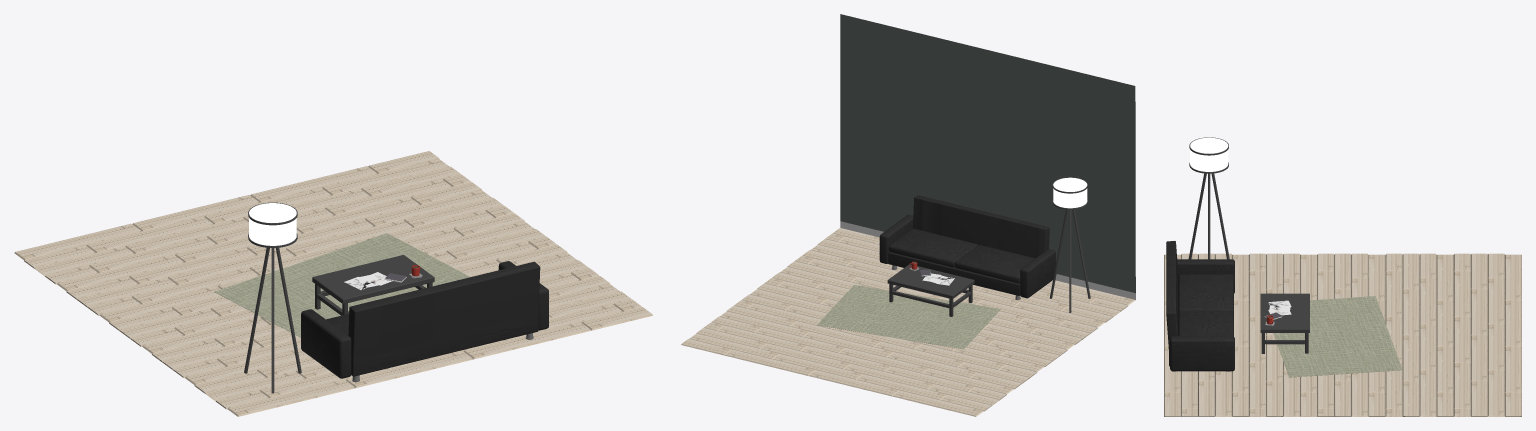
The model's file is officeCall.gltf.
3 views of the same model, side by side, from view 1: azimuth 30°, elevation 25°; view 2: azimuth 150°, elevation 25°; view 3: azimuth 270°, elevation 25° (orthographic). The views are drawn at different scales.
Visible parts, largest first — view 1: Object_28, Object_110.005, Object_3, Object_82, Object_110.002, Object_30, Object_110.003; view 2: Object_51.001, Object_28, Object_3, Object_110.005, Object_82, Object_110.001, Object_110, Object_110.002, Object_30, Object_50.001, Object_110.003; view 3: Object_28, Object_3, Object_110.003, Object_110, Object_82, Object_110.001, Object_110.005, Object_30, Object_110.002.
Part boxes in pixels (box(x1,y1,x2,y2)): Object_28: box(14, 151, 652, 416); Object_110.005: box(348, 261, 540, 376); Object_3: box(214, 233, 470, 337); Object_82: box(312, 255, 434, 315); Object_110.002: box(301, 309, 351, 378); Object_30: box(249, 203, 296, 245); Object_110.003: box(498, 261, 548, 330); Object_51.001: box(840, 14, 1135, 293); Object_28: box(681, 228, 1134, 416); Object_3: box(817, 285, 1000, 349); Object_110.005: box(888, 195, 1049, 295); Object_82: box(887, 264, 974, 316); Object_110.001: box(888, 228, 977, 267); Object_110: box(954, 245, 1034, 283); Object_110.002: box(1020, 249, 1055, 298); Object_30: box(1053, 177, 1087, 208); Object_50.001: box(840, 221, 1135, 300); Object_110.003: box(879, 214, 913, 263); Object_28: box(1164, 253, 1521, 416); Object_3: box(1273, 296, 1402, 377); Object_110.003: box(1170, 336, 1234, 371); Object_110: box(1178, 274, 1233, 311); Object_82: box(1260, 293, 1309, 353); Object_110.001: box(1178, 310, 1233, 336); Object_110.005: box(1166, 241, 1233, 366); Object_30: box(1190, 137, 1228, 171); Object_110.002: box(1177, 259, 1234, 293).
Size of the model in its own units: 4.33 by 3.01 by 4.04.
Materials: 18 (7 with a texture image).
